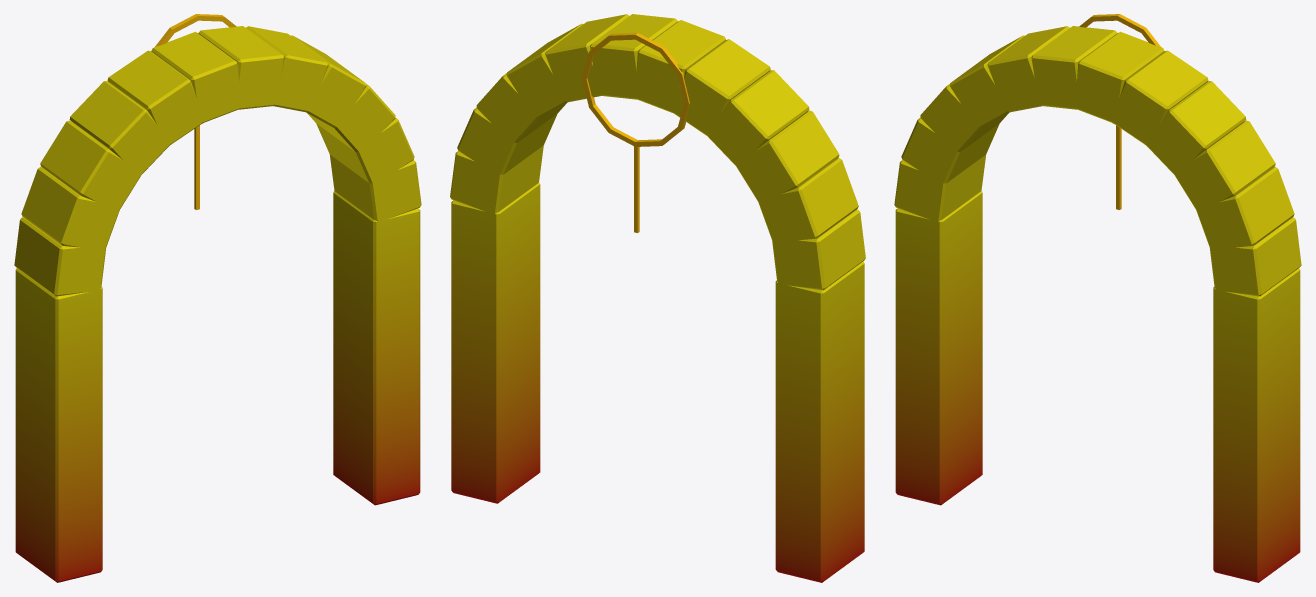
Rendered from arch.glb.
3 views of the same model, side by side, from view 1: azimuth 30°, elevation 25°; view 2: azimuth 150°, elevation 25°; view 3: azimuth 330°, elevation 25° (orthographic). The views are drawn at different scales.
Visible parts, largest first — view 1: arch; view 2: arch; view 3: arch.
Part boxes in pixels (box(x1,y1,x2,y2)): arch: box(14, 14, 421, 582); arch: box(450, 14, 865, 582); arch: box(894, 14, 1301, 582).
Size of what is drawn, in the model's own units: 4.03 by 5.18 by 0.819.
